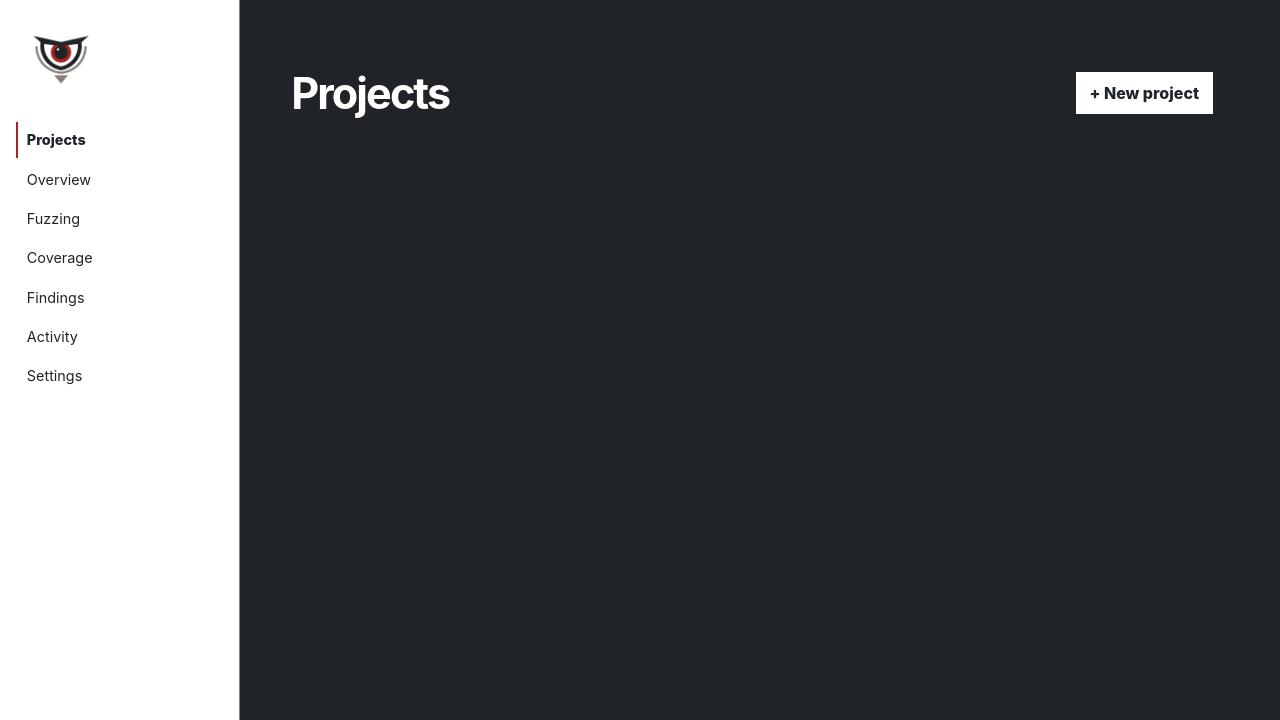
App journey › keeps a newly created project selected when the initial list resolves without it
Click the button "+ New project" at [1144, 93], box x1=1076 y1=72 x2=1213 y2=114
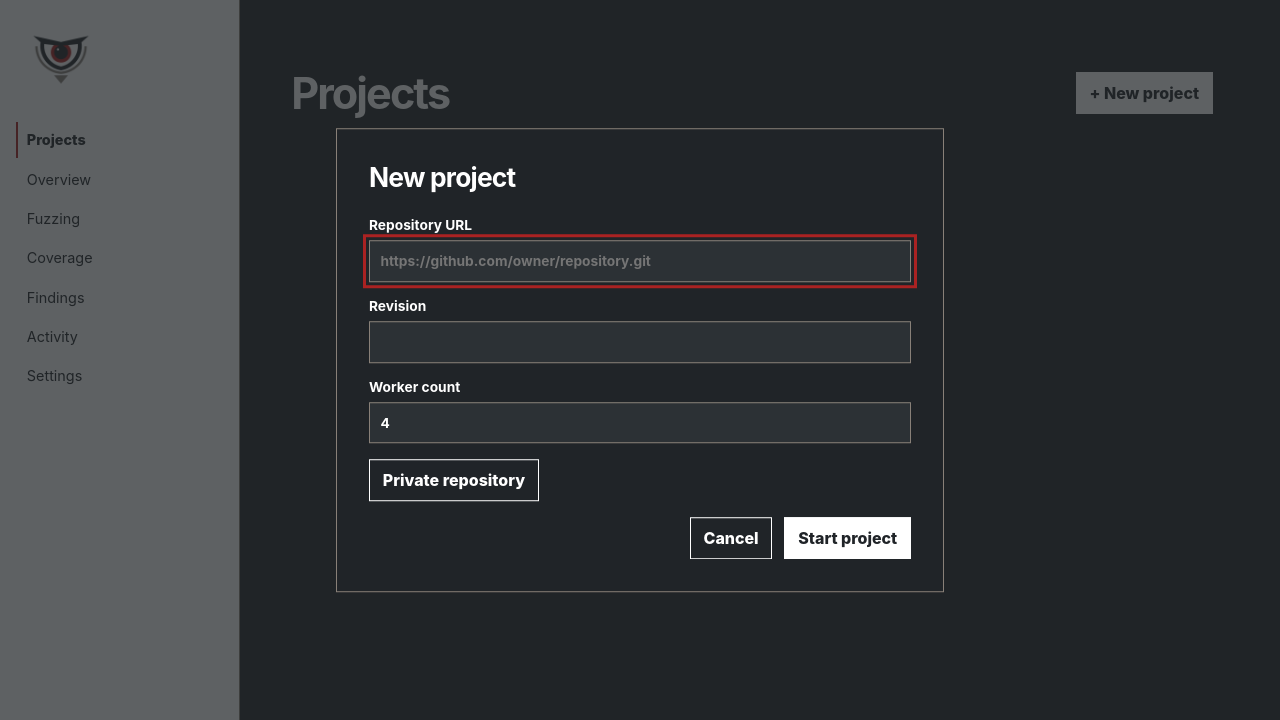
Type "https://github.com/acme/created.git" into the field labelled "Repository URL" at [640, 261], box x1=369 y1=240 x2=911 y2=282
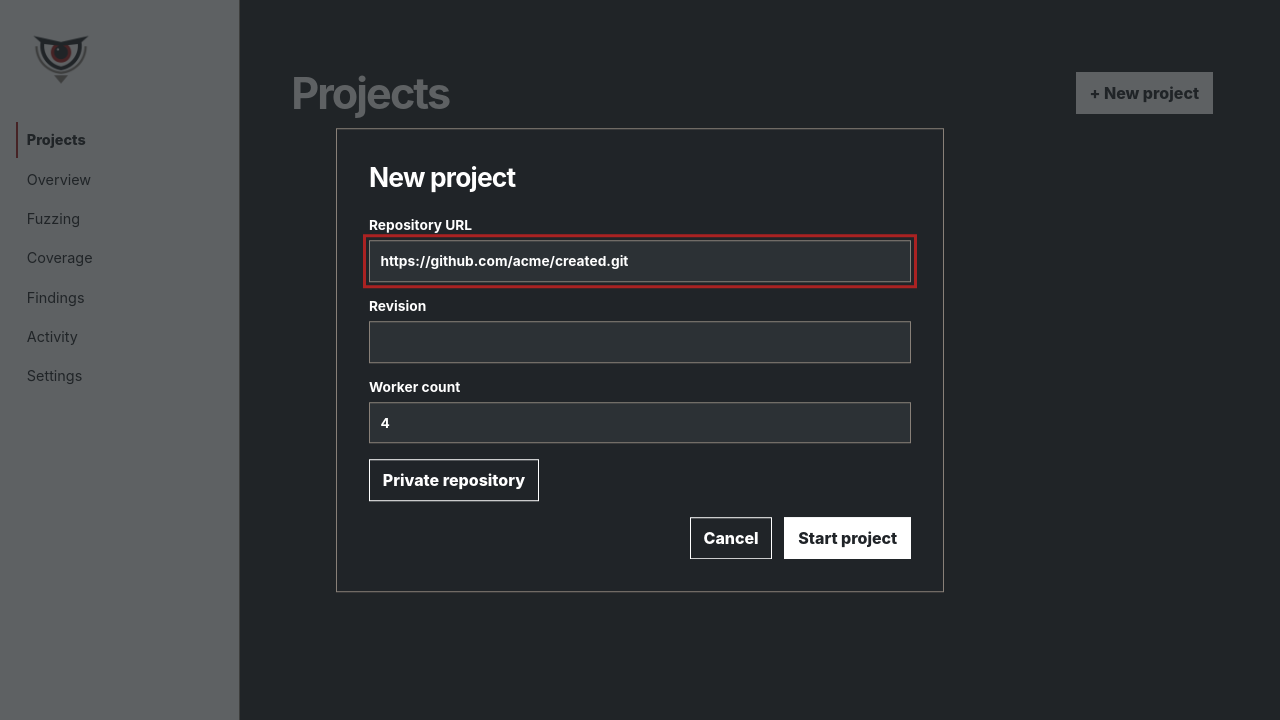
Type "stable" into the field labelled "Revision" at [640, 342], box x1=369 y1=321 x2=911 y2=363
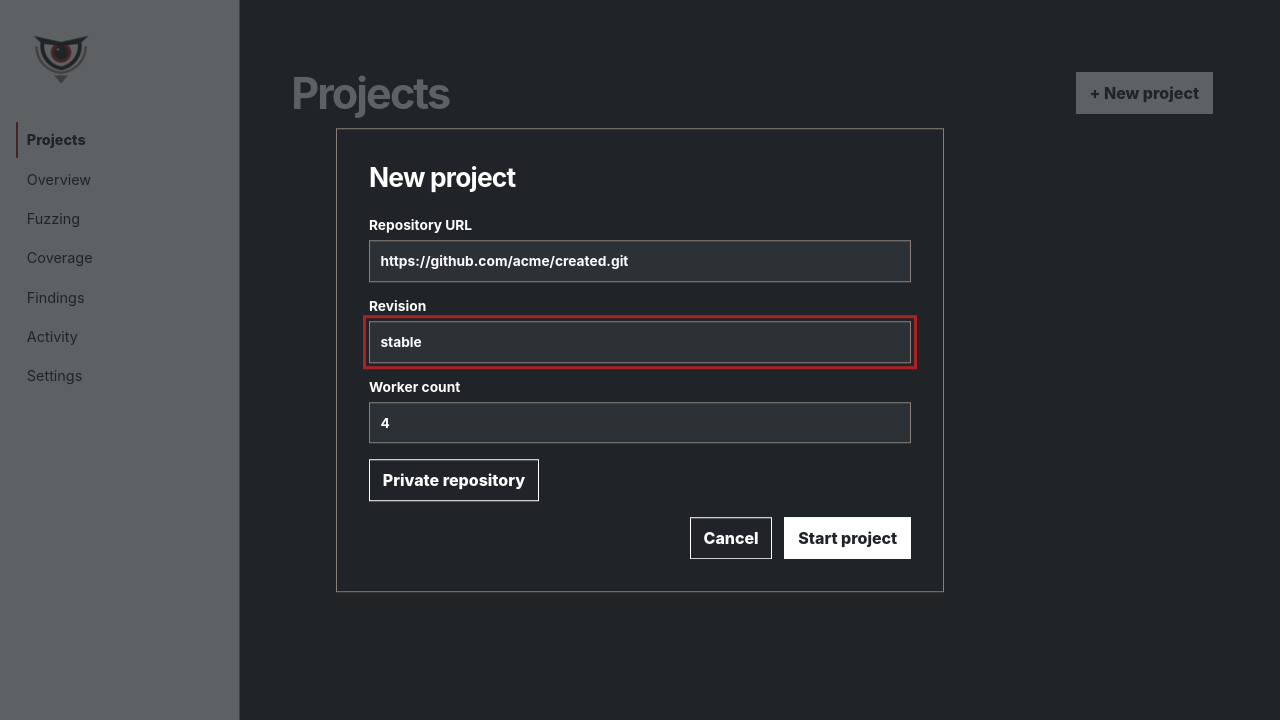
Click the button "Start project" at [848, 538], box x1=784 y1=517 x2=911 y2=559
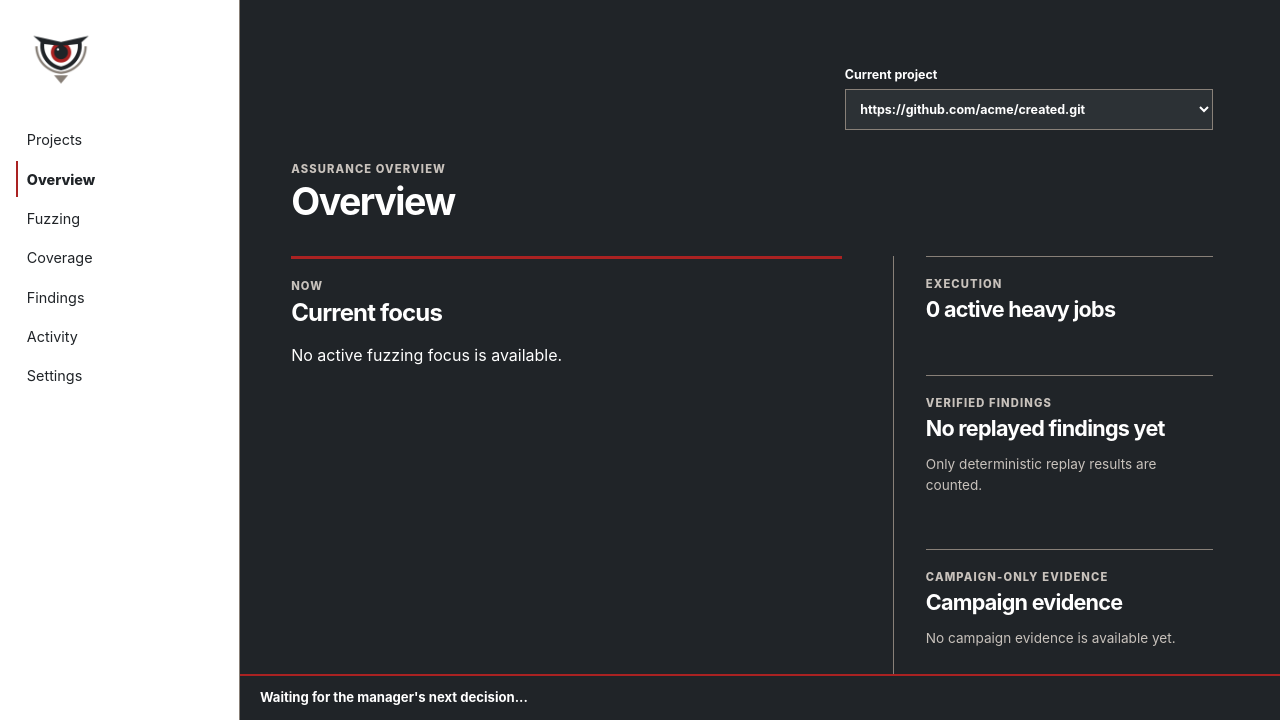
expect the dropdown labelled "Current project" shows "https://github.com/acme/created.git": met, box x1=845 y1=89 x2=1213 y2=130
